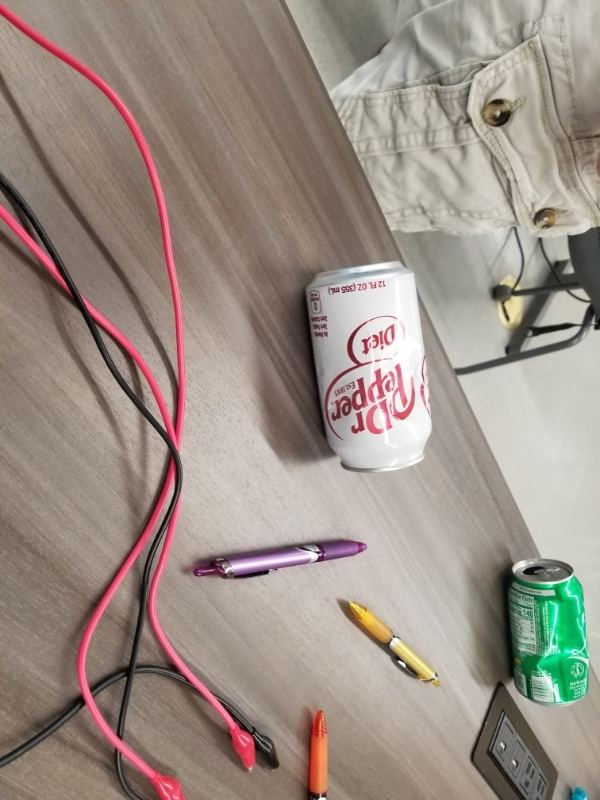can: (301, 254, 439, 477), (504, 554, 595, 710)
